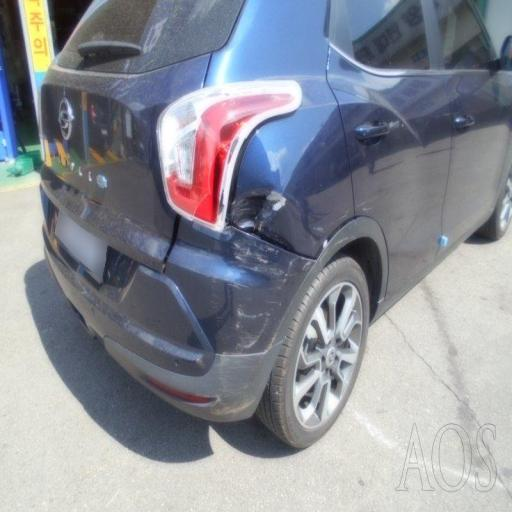dent: (205, 144, 310, 280)
scratch: (202, 279, 270, 420)
